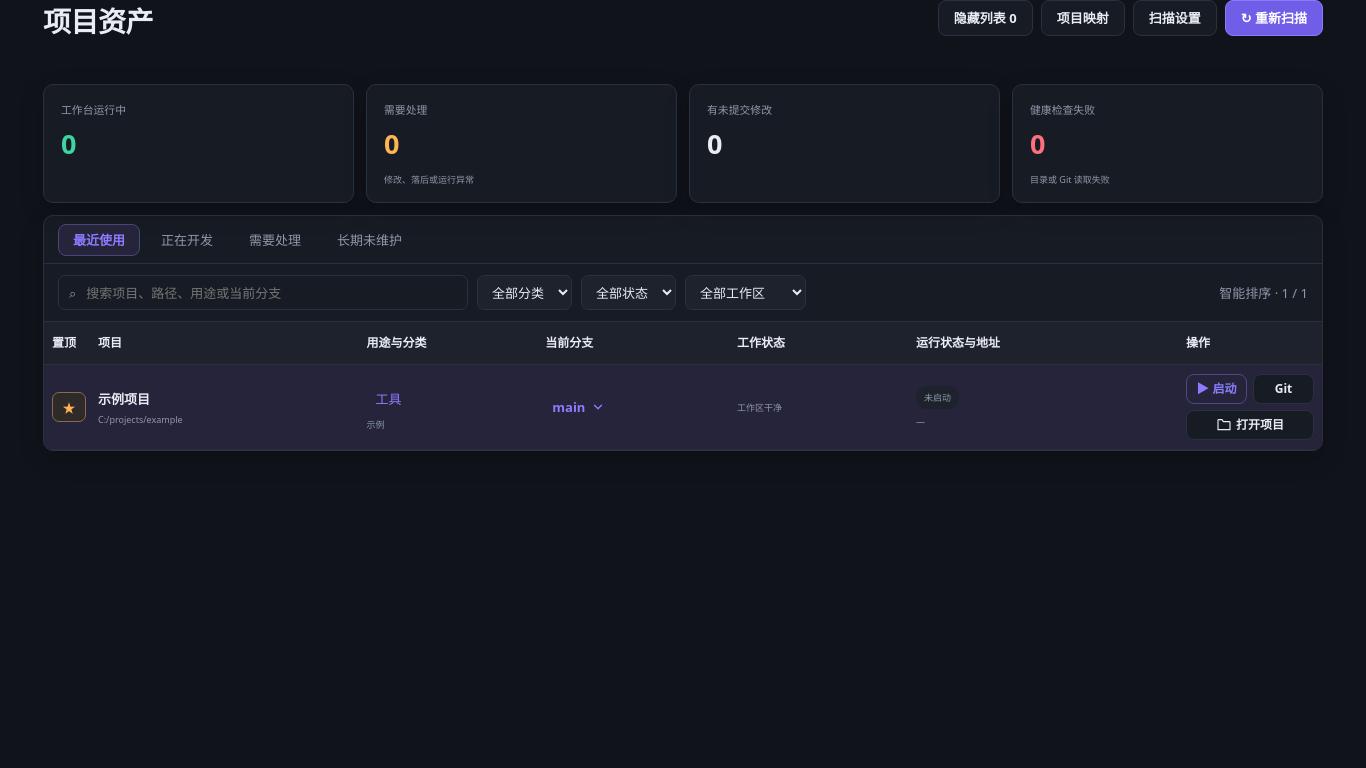
Scenario: 项目资产列表操作 › 列表分支选择更新远程并允许跟踪远端独有分支
Click the button with class "branch-picker-trigger". click: (579, 407)
box: [545,390,612,424]
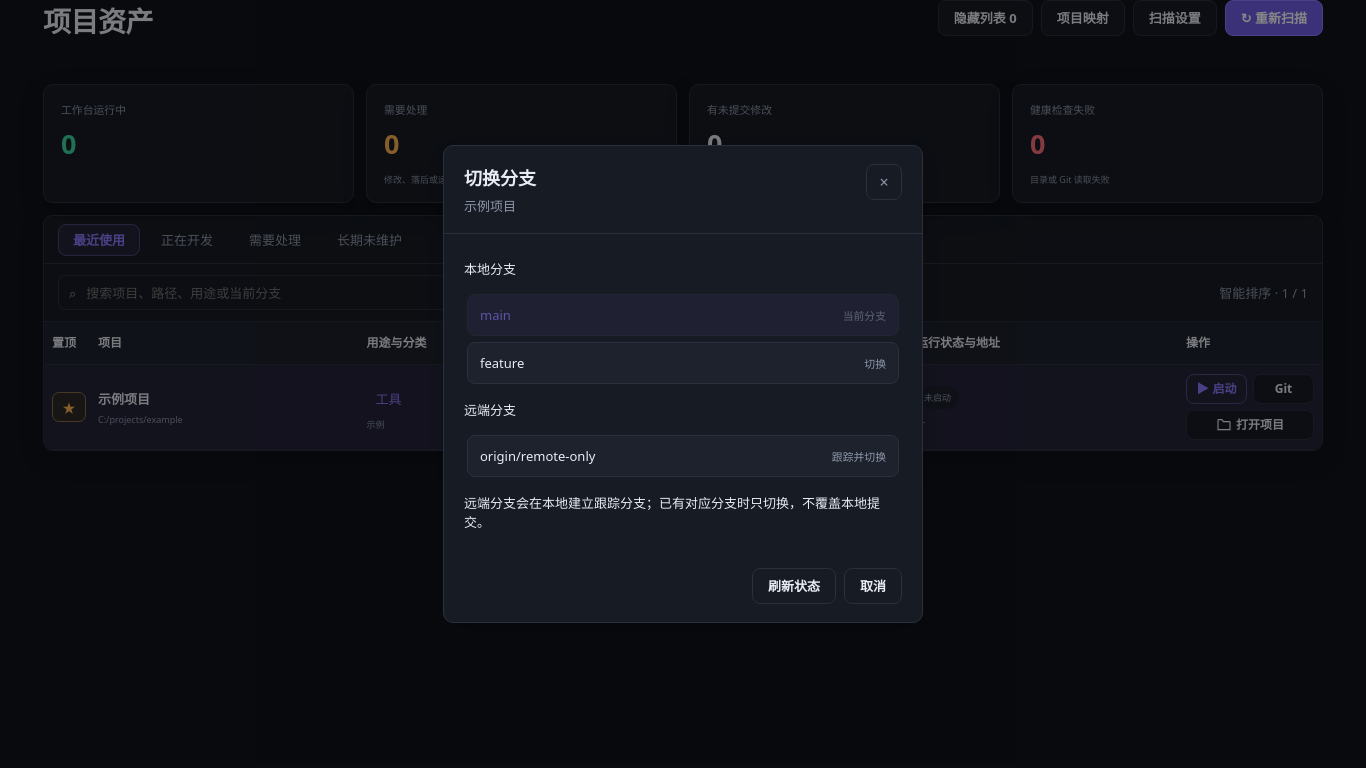
Check: the button with class "remote-branch-option" shows "origin/remote-only"
Click the button with class "remote-branch-option". click: (538, 456)
box: [467,435,899,477]
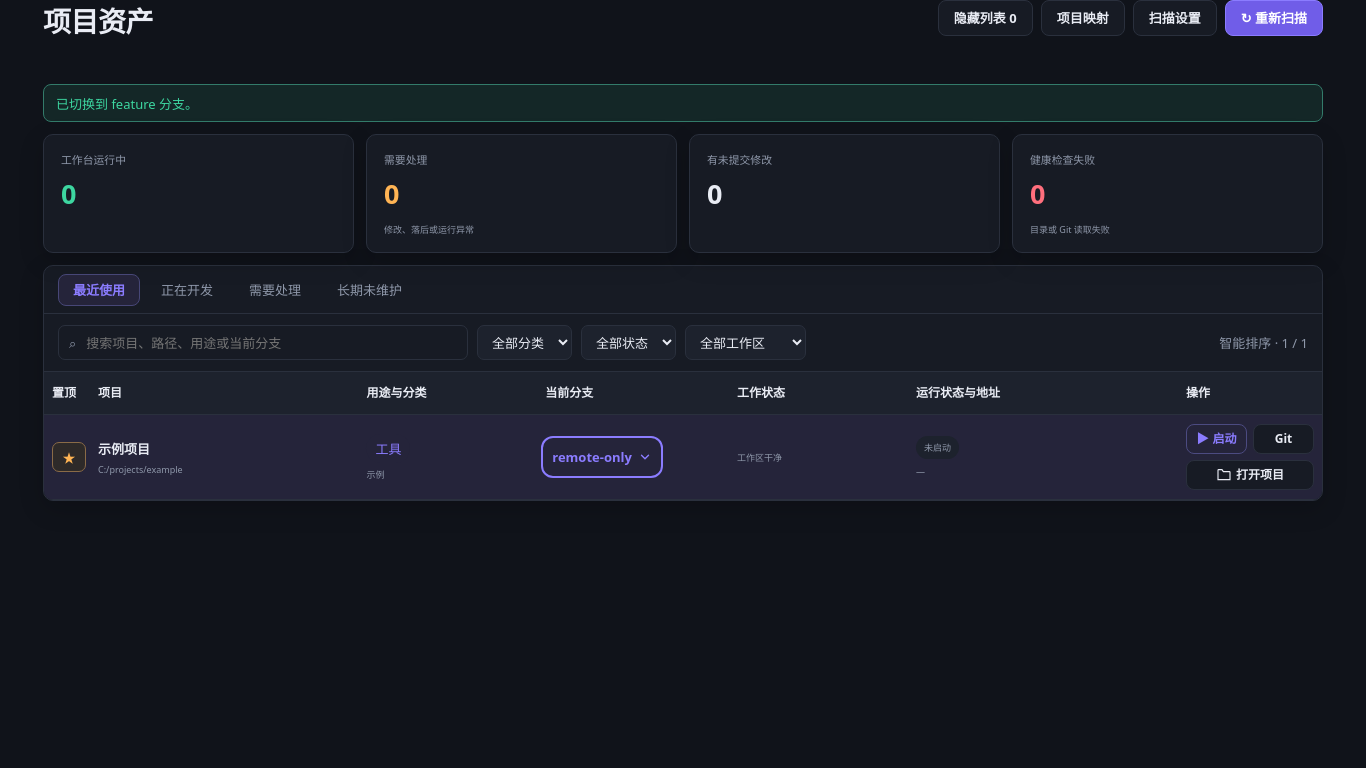
Check: the button with class "branch-picker-trigger" reads "remote-only", box [545,440,659,474]
